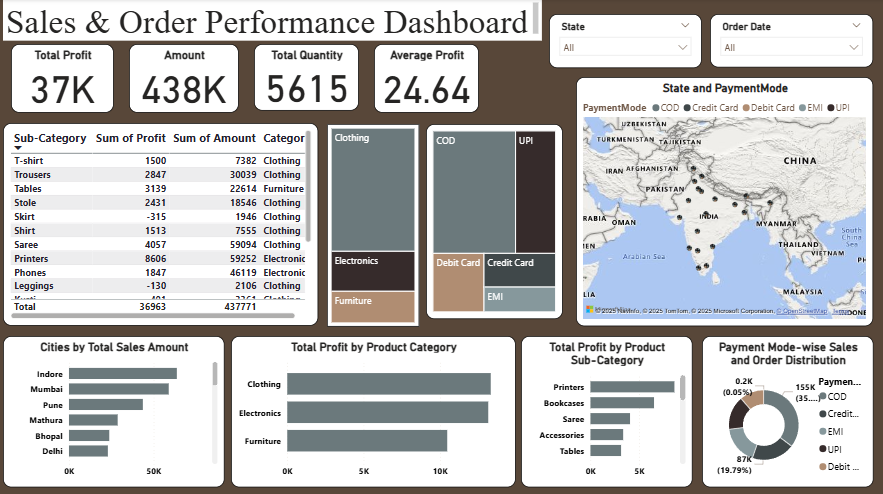

The dashboard page shown, as its layout file describes it:
{"tool":"powerbi","page":{"name":"Sales & Order Performance Power Bi Report","canvas":[1280,720],"ordinal":0},"visuals":[{"type":"card","title":"Amount","fields":{"Values":["Sum(Details.Amount)"]},"box":[189.8,65.5,157.9,99.1],"z":0},{"type":"card","title":"Total Profit","fields":{"Values":["Sum(Details.Profit)"]},"box":[20.2,64.8,148.3,99.4],"z":1000},{"type":"card","title":"Total Quantity","fields":{"Values":["Sum(Details.Quantity)"]},"box":[369.6,65.5,151.2,95.7],"z":2000},{"type":"card","title":"Average Profit","fields":{"Values":["Avg(Details.Profit)"]},"box":[542.9,64.8,151.2,99.4],"z":3000},{"type":"donutChart","title":"Payment Mode-wise Sales and Order Distribution","fields":{"Category":["Details.PaymentMode"],"Y":["Sum(Details.Amount)","CountNonNull(Details.Order ID)"]},"box":[1014.6,485.5,246.9,218.4],"z":4000},{"type":"barChart","title":"Cities by Total Sales Amount","fields":{"Y":["Sum(Details.Amount)"],"Category":["Orders.City"]},"box":[8.4,485.5,319.2,218.4],"z":5000},{"type":"textbox","box":[8.6,0,776.2,60.5],"z":6000},{"type":"tableEx","fields":{"Values":["Details.Sub-Category","Sum(Details.Profit)","Sum(Details.Amount)","Details.Category"]},"box":[8.6,178.6,453.6,292.3],"z":7000},{"type":"barChart","title":"Total Profit by Product Category","fields":{"Y":["Sum(Details.Profit)"],"Category":["Details.Category"]},"box":[337.6,485.5,409.9,218.4],"z":8000},{"type":"map","fields":{"Category":["Orders.State"],"Series":["Details.PaymentMode"]},"box":[833.2,112.5,428.3,359.5],"z":9000},{"type":"slicer","fields":{"Values":["Orders.Order Date"]},"box":[1026.4,21.8,235.2,77.3],"z":10000},{"type":"treemap","fields":{"Group":["Details.Category"],"Values":["CountNonNull(Details.Category)"]},"box":[475.4,179.7,132.7,292.3],"z":11000},{"type":"slicer","fields":{"Values":["Orders.State"]},"box":[794.9,21.6,220.3,77.8],"z":12000},{"type":"treemap","fields":{"Group":["Details.PaymentMode"],"Values":["CountNonNull(Details.PaymentMode)"]},"box":[618.2,179.7,196.5,280.5],"z":13000},{"type":"barChart","title":"Total Profit by Product Sub-Category","fields":{"Y":["Sum(Details.Profit)"],"Category":["Details.Sub-Category"]},"box":[754.2,485.5,246.9,218.4],"z":14000}]}

Visuals, with their boxes in screenshot pixels (x1, y1, x2, y2), scaled from the page's 1280x720 canvas onto the 883x494 screenshot:
"Amount" card: (131, 45, 240, 113)
"Total Profit" card: (14, 44, 116, 113)
"Total Quantity" card: (255, 45, 359, 111)
"Average Profit" card: (375, 44, 479, 113)
"Payment Mode-wise Sales and Order Distribution" donutChart: (700, 333, 870, 483)
"Cities by Total Sales Amount" barChart: (6, 333, 226, 483)
textbox: (6, 0, 541, 42)
tableEx - Details.Sub-Category x Sum(Details.Profit): (6, 123, 319, 323)
"Total Profit by Product Category" barChart: (233, 333, 516, 483)
map - Orders.State x Details.PaymentMode: (575, 77, 870, 324)
slicer - Orders.Order Date: (708, 15, 870, 68)
treemap - Details.Category x CountNonNull(Details.Category): (328, 123, 419, 324)
slicer - Orders.State: (548, 15, 700, 68)
treemap - Details.PaymentMode x CountNonNull(Details.PaymentMode): (426, 123, 562, 316)
"Total Profit by Product Sub-Category" barChart: (520, 333, 691, 483)
